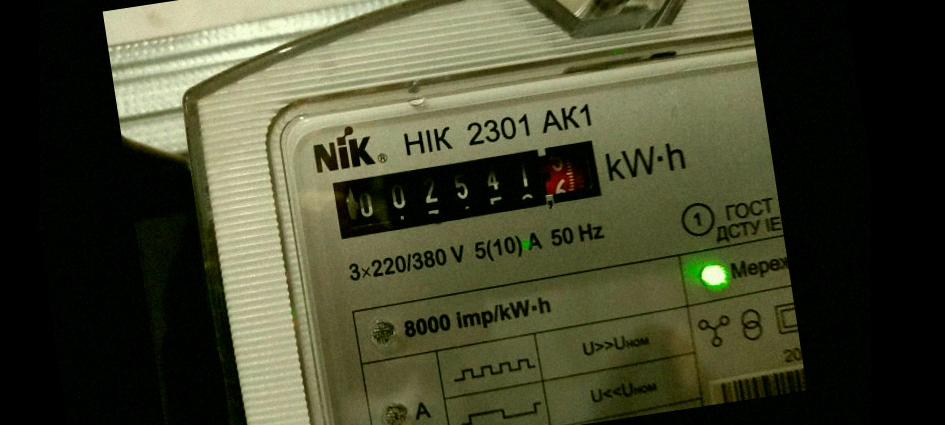0: (386, 177, 410, 212), (357, 188, 378, 219)
1: (512, 155, 533, 190)
2: (417, 171, 443, 208)
4: (482, 160, 503, 194)
5: (451, 168, 471, 202)
6: (551, 174, 570, 197)
screen: (316, 122, 626, 256)
